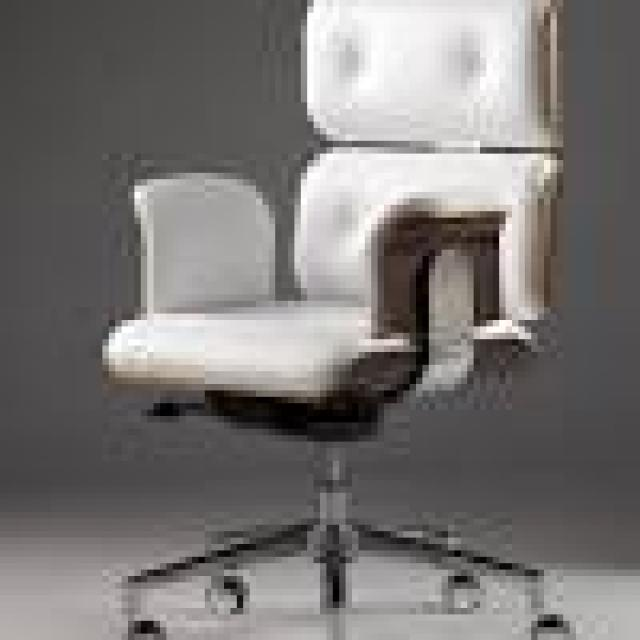chair: (38, 0, 640, 640)
